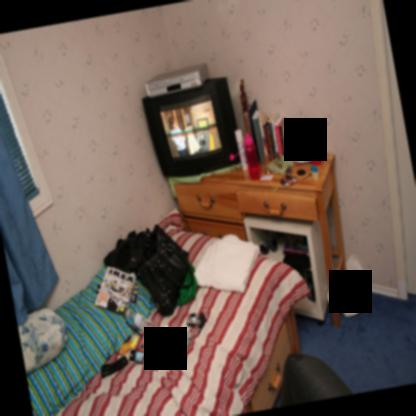handbag: (136, 222, 189, 320)
